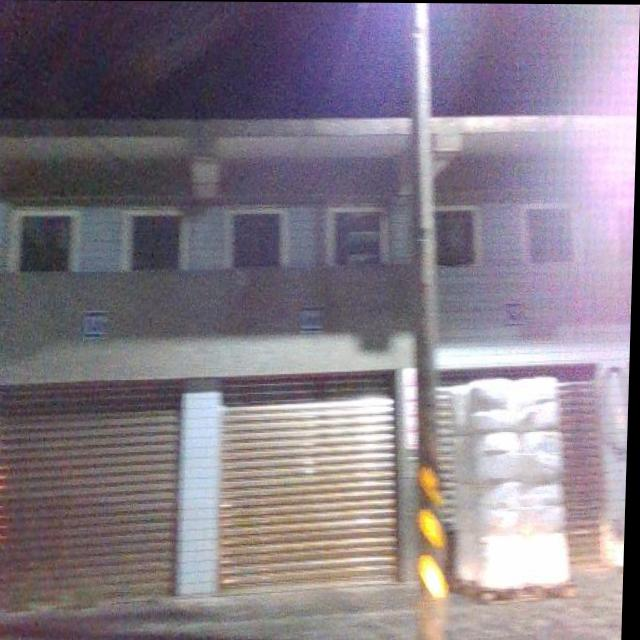pollute: (450, 380, 581, 604)
